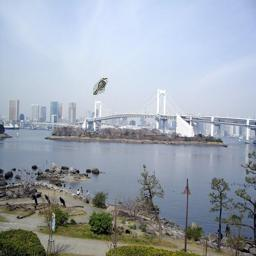Cuckoo: (93, 78, 108, 95)
